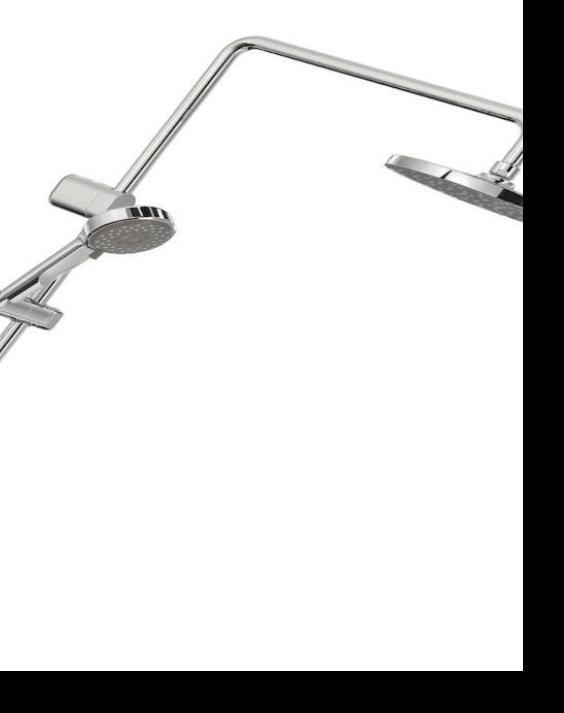Ducha: (0, 5, 531, 480)
